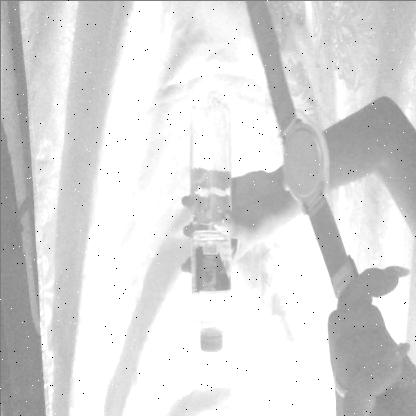Plastic Bottle: (156, 63, 252, 393)
